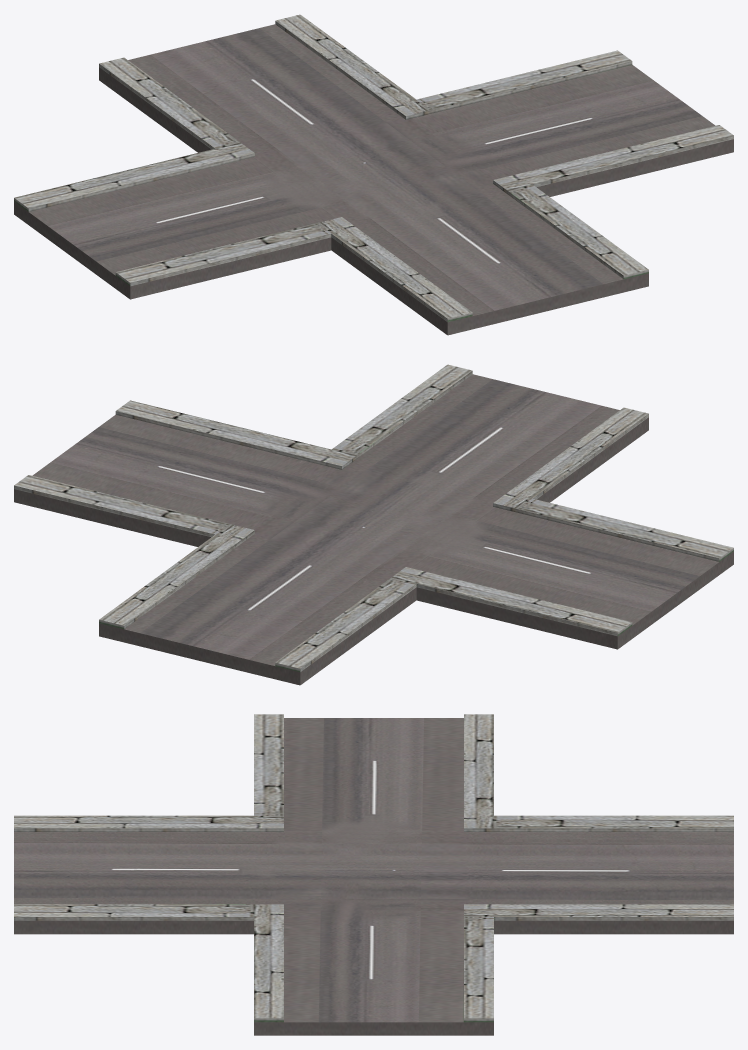
The model's file is + Road(Small).FBX.
3 views of the same model, one above another, from view 1: azimuth 30°, elevation 25°; view 2: azimuth 150°, elevation 25°; view 3: azimuth 270°, elevation 25° (orthographic). The views are drawn at different scales.
Parts seen in each view (by area): view 1: + Road(Small); view 2: + Road(Small); view 3: + Road(Small).
Boxes of the visible parts, x1=… form: + Road(Small): x1=14, y1=14, x2=733, y2=335; + Road(Small): x1=14, y1=364, x2=733, y2=685; + Road(Small): x1=14, y1=714, x2=733, y2=1035.
Bounding box in the file's own units: 2400 × 63.69 × 2400.
